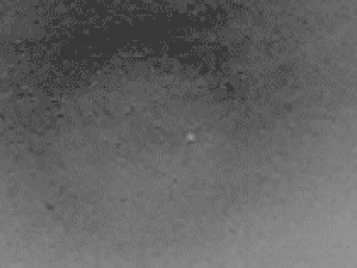dim target: (185, 132, 195, 142)
